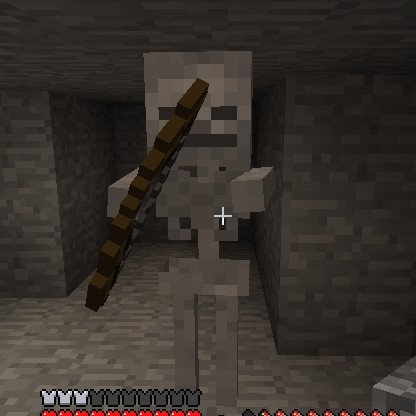skeleton: (126, 42, 283, 234)
